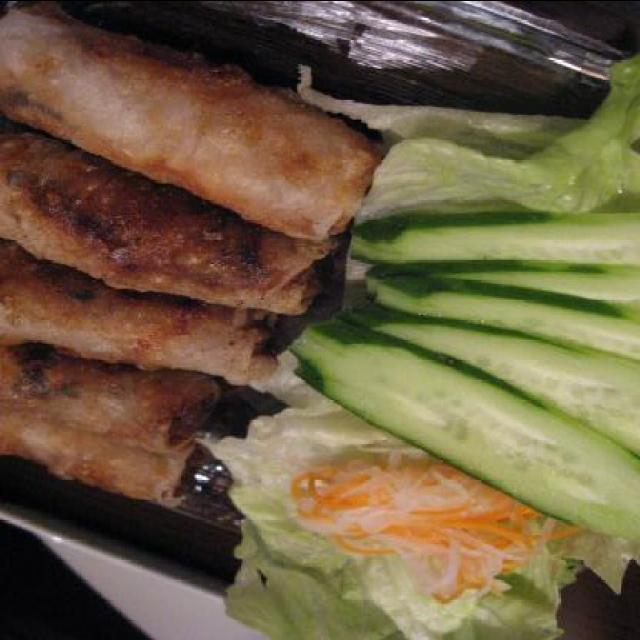Cucumber: (306, 206, 608, 524)
